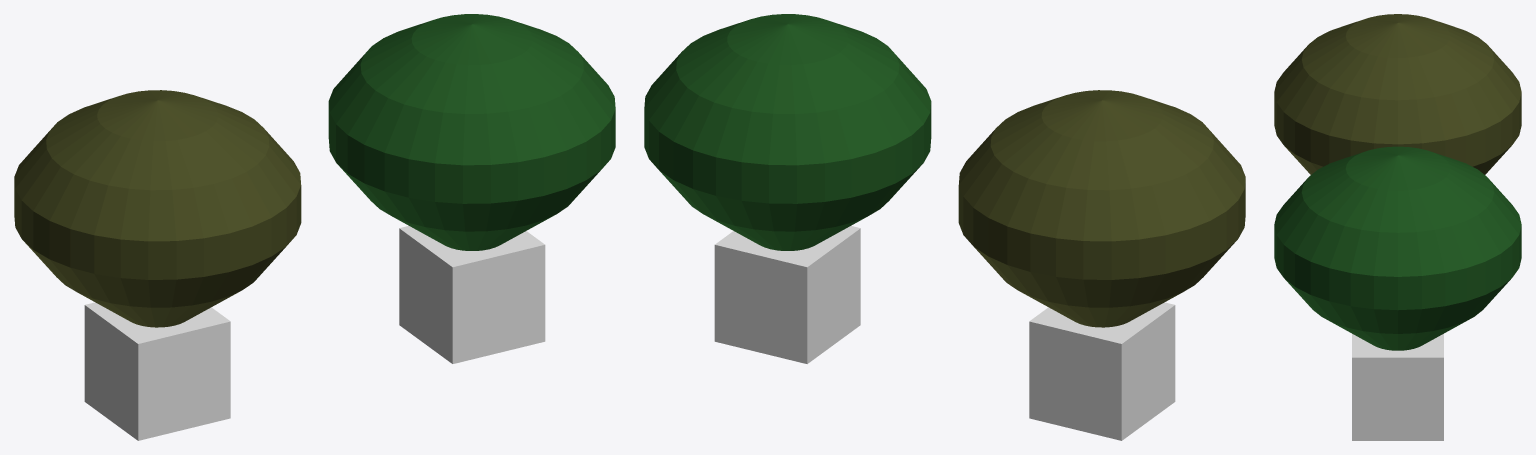
The model's file is two_big_bulbs.gltf.
3 renders of one model, left to right at view 1: azimuth 30°, elevation 25°; view 2: azimuth 150°, elevation 25°; view 3: azimuth 270°, elevation 25°, orthographic. The views are drawn at different scales.
Visible parts, largest first — view 1: Office, Kitchen, Cube, Cube.001; view 2: Office, Kitchen, Cube, Cube.001; view 3: Kitchen, Office, Cube.001.
Boxes of the visible parts, left/top/right/bottom form: Office: left=14, top=90, right=301, bottom=327; Kitchen: left=328, top=14, right=615, bottom=250; Cube: left=84, top=302, right=230, bottom=440; Cube.001: left=399, top=226, right=545, bottom=363; Office: left=958, top=90, right=1245, bottom=327; Kitchen: left=644, top=14, right=931, bottom=250; Cube: left=1029, top=302, right=1175, bottom=440; Cube.001: left=714, top=226, right=860, bottom=363; Kitchen: left=1274, top=146, right=1521, bottom=350; Office: left=1274, top=14, right=1521, bottom=174; Cube.001: left=1352, top=334, right=1443, bottom=440.
Size of the model in its own units: 6.08 by 3.2 by 2.69.
